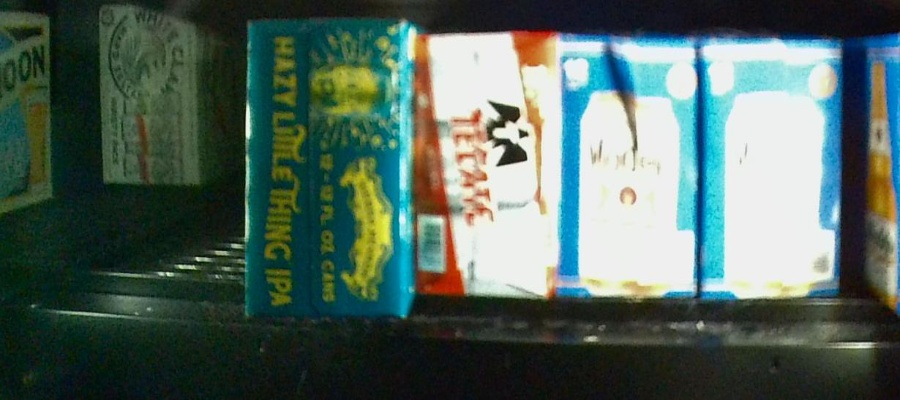bottle: (244, 15, 415, 320), (419, 31, 559, 301), (557, 29, 698, 297), (700, 31, 840, 300), (847, 36, 900, 322)
